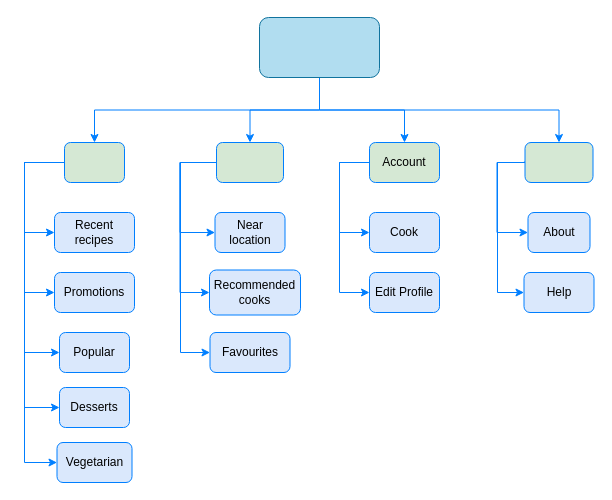
The diagram is 612 pixels wide and 500 high, and some of its shapes have lost their labels. Here are the shapes that lost their labels. From the top down, the centre of each, then its label:
pixel 319 47: Yummy
pixel 94 162: Home
pixel 250 162: Search
pixel 558 162: Settings
